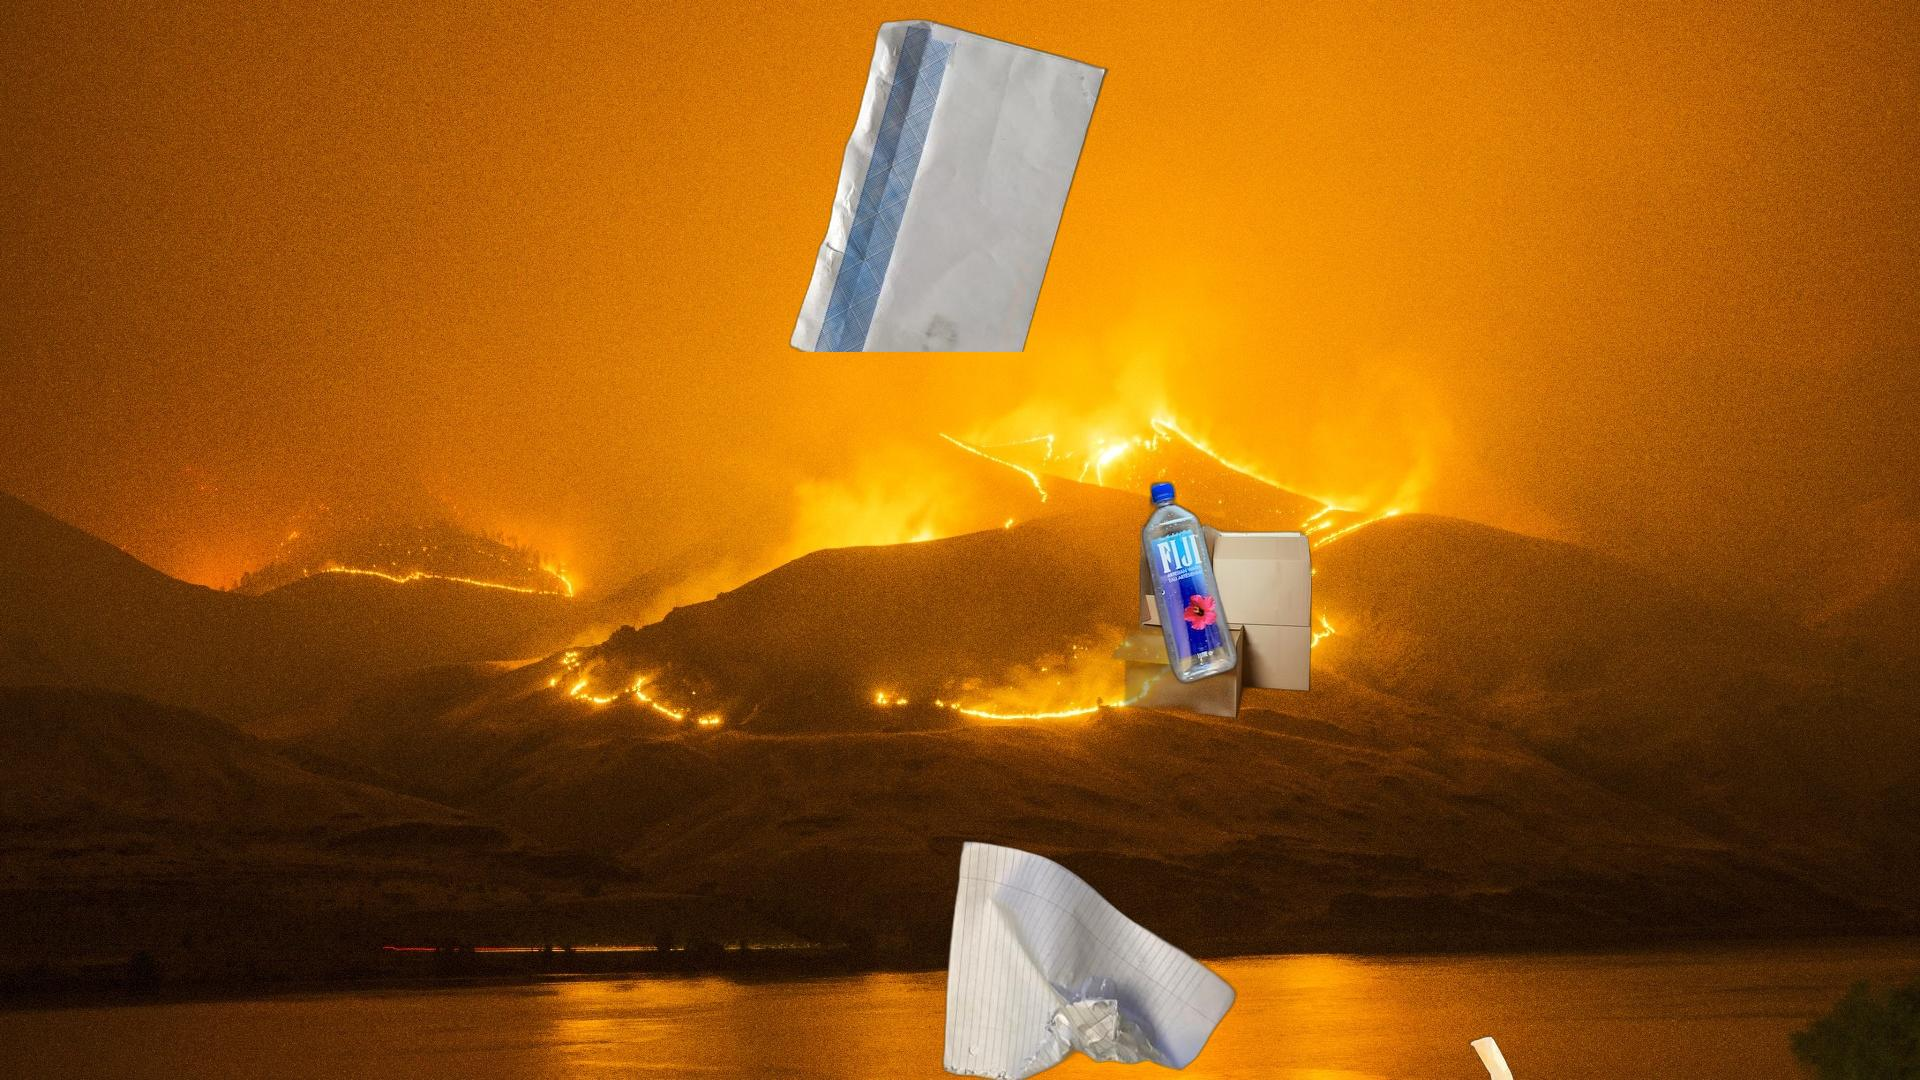paper: (786, 16, 1113, 352), (938, 837, 1240, 1080)
plastic-bag: (1296, 1033, 1561, 1080)
plastic-bottles: (1137, 476, 1244, 690)
trashbox-cardboard: (1098, 516, 1313, 767)
